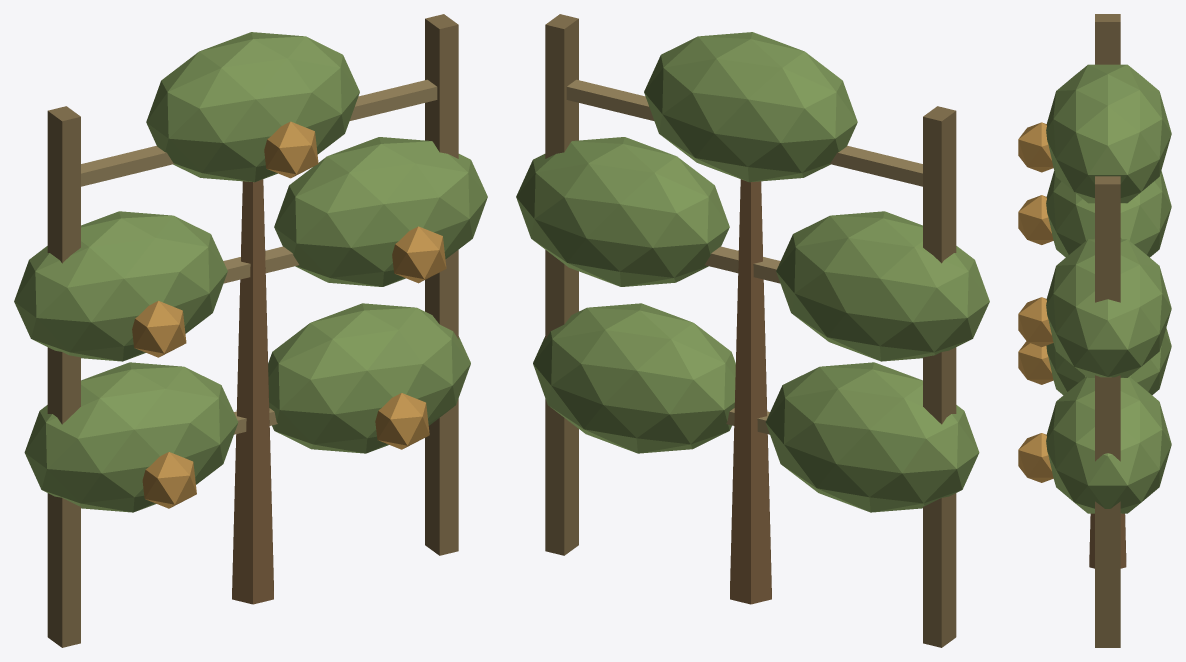
Rendered from map-exclusive-v3__farm_02.glb.
3 views of the same model, side by side, from view 1: azimuth 30°, elevation 25°; view 2: azimuth 150°, elevation 25°; view 3: azimuth 270°, elevation 25° (orthographic). The views are drawn at different scales.
Parts seen in each view (by area): view 1: farm_02; view 2: farm_02; view 3: farm_02.
Part boxes in pixels (x1=…): farm_02: x1=14, y1=14, x2=487, y2=647; farm_02: x1=516, y1=14, x2=989, y2=647; farm_02: x1=1018, y1=14, x2=1171, y2=647.
Bounding box in the file's own units: 2.15 × 2.53 × 0.7206.
